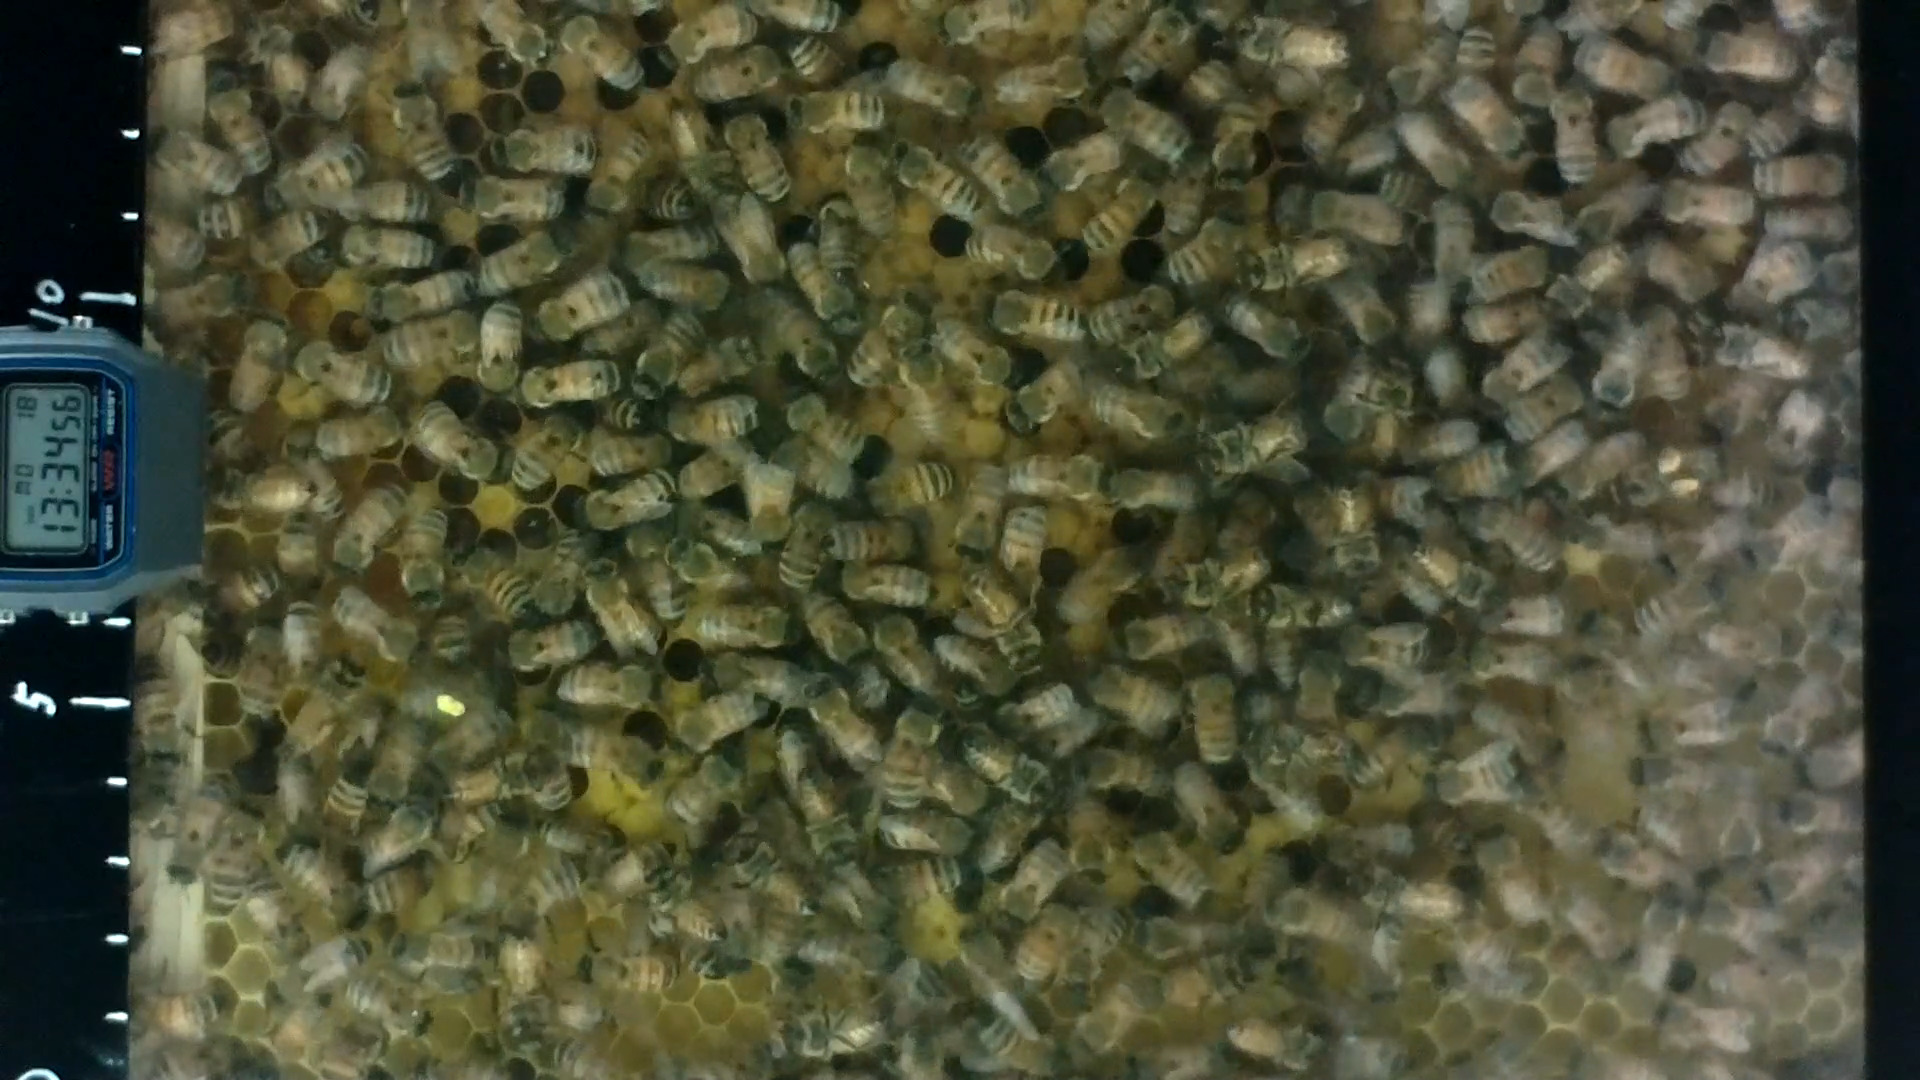hati: (290, 331, 392, 409), (717, 107, 795, 208), (582, 936, 688, 1009), (1203, 407, 1305, 483), (1125, 819, 1207, 913), (1085, 655, 1180, 735), (1104, 90, 1188, 177), (411, 404, 502, 484), (469, 220, 560, 299), (891, 140, 975, 225), (556, 727, 669, 790), (150, 127, 237, 207), (322, 593, 418, 666), (305, 409, 407, 476), (837, 131, 898, 243), (456, 543, 541, 622), (258, 144, 368, 204), (535, 273, 625, 347), (388, 88, 456, 185), (512, 353, 625, 411), (957, 223, 1068, 282), (960, 142, 1044, 220), (673, 698, 775, 761), (985, 55, 1091, 116), (895, 343, 960, 442), (556, 20, 642, 94), (811, 688, 884, 774), (884, 699, 940, 808), (284, 847, 364, 923), (227, 319, 295, 407), (506, 407, 575, 496), (953, 455, 1007, 564), (835, 559, 942, 615), (1240, 233, 1341, 291), (1189, 666, 1242, 775), (491, 127, 603, 178), (661, 1, 764, 57), (1000, 448, 1102, 504), (977, 286, 1091, 336), (994, 502, 1054, 597), (1102, 465, 1203, 521), (237, 620, 290, 724), (556, 661, 646, 721), (1085, 382, 1179, 439), (396, 512, 448, 612), (885, 61, 976, 119), (779, 492, 831, 593), (856, 455, 952, 509), (342, 223, 433, 278), (572, 477, 673, 527), (790, 88, 887, 140), (1084, 174, 1153, 247), (472, 299, 524, 396), (688, 600, 798, 644), (637, 262, 740, 309), (390, 924, 484, 973), (1117, 9, 1179, 82), (450, 173, 564, 211), (663, 400, 760, 443), (692, 53, 775, 100), (517, 617, 596, 666)
